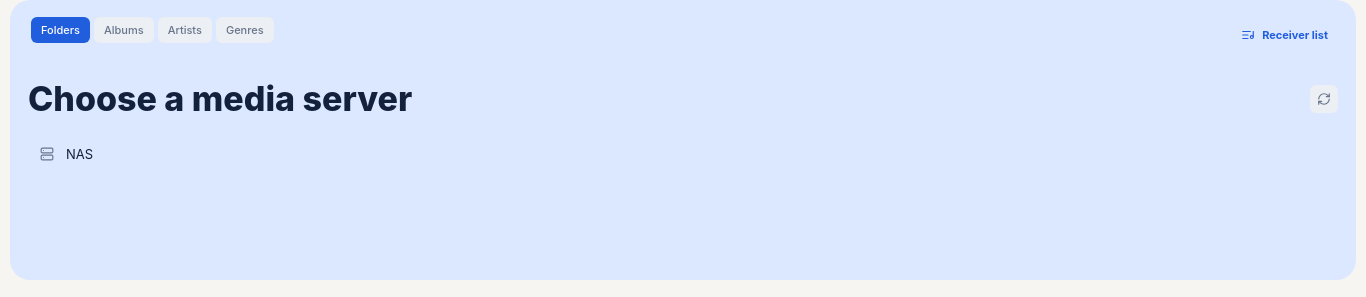
NetList › ignores an obsolete folder response after navigating back
Click the button with aria-label "Open media server NAS". click: click(47, 154)
box: [28, 135, 1334, 173]
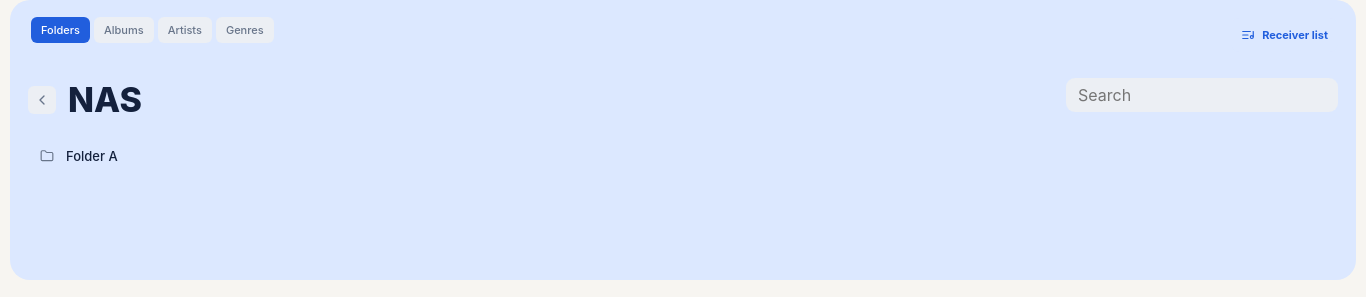
Click the button with aria-label "Open folder Folder A". click: click(92, 156)
box: [28, 137, 1334, 175]
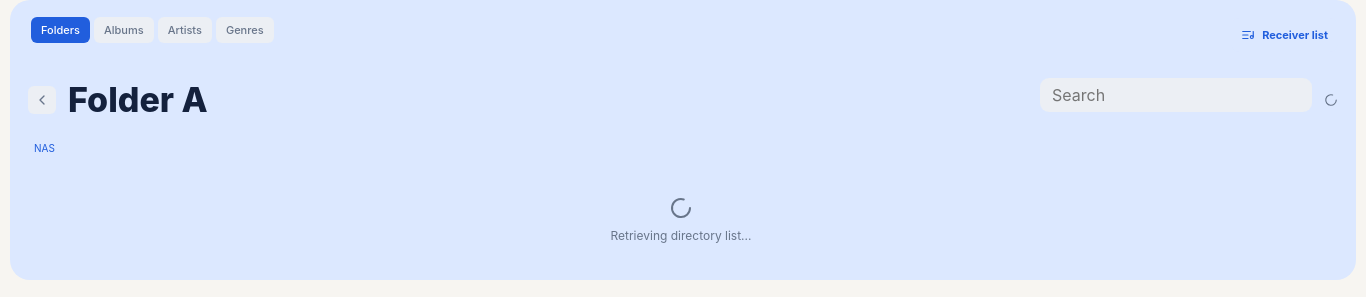
Click the button named "Go back". click: click(42, 100)
box: [28, 86, 56, 114]
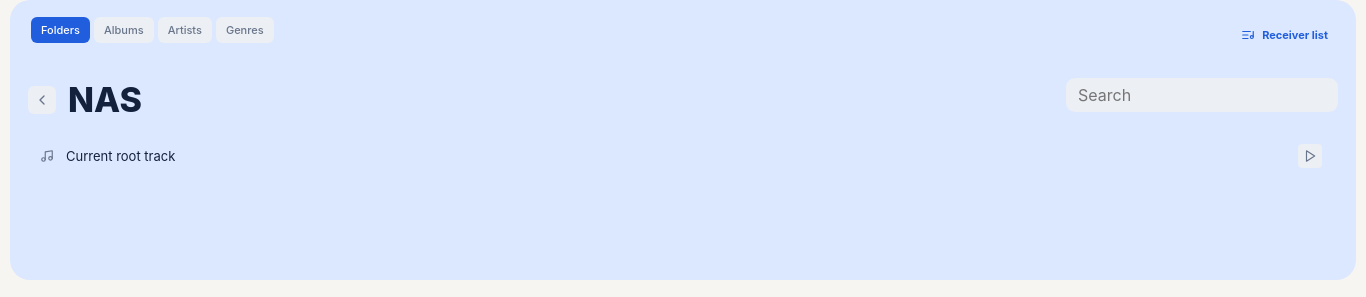
Result: the button with aria-label "Play Current root track" is shown at [28, 137, 1334, 175]
Result: the text "Current root track" is shown at [66, 148, 175, 164]
